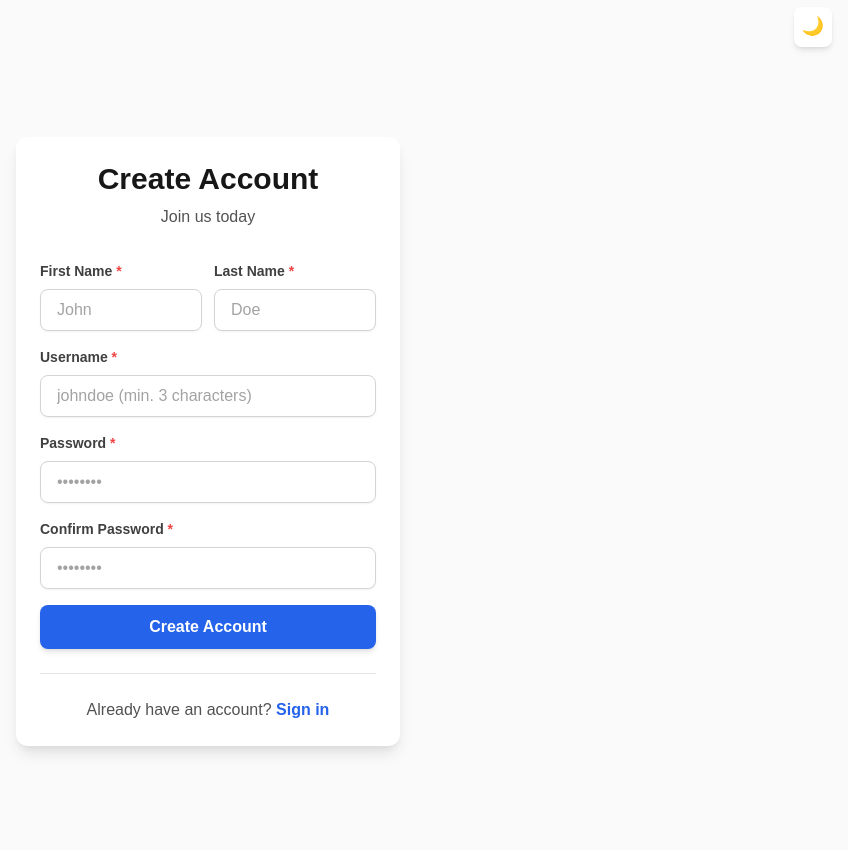
it: Register Page › should show password requirements when password field is focused
Focus the password field with placeholder "••••••••" at [208, 482], box [40,460,376,502]
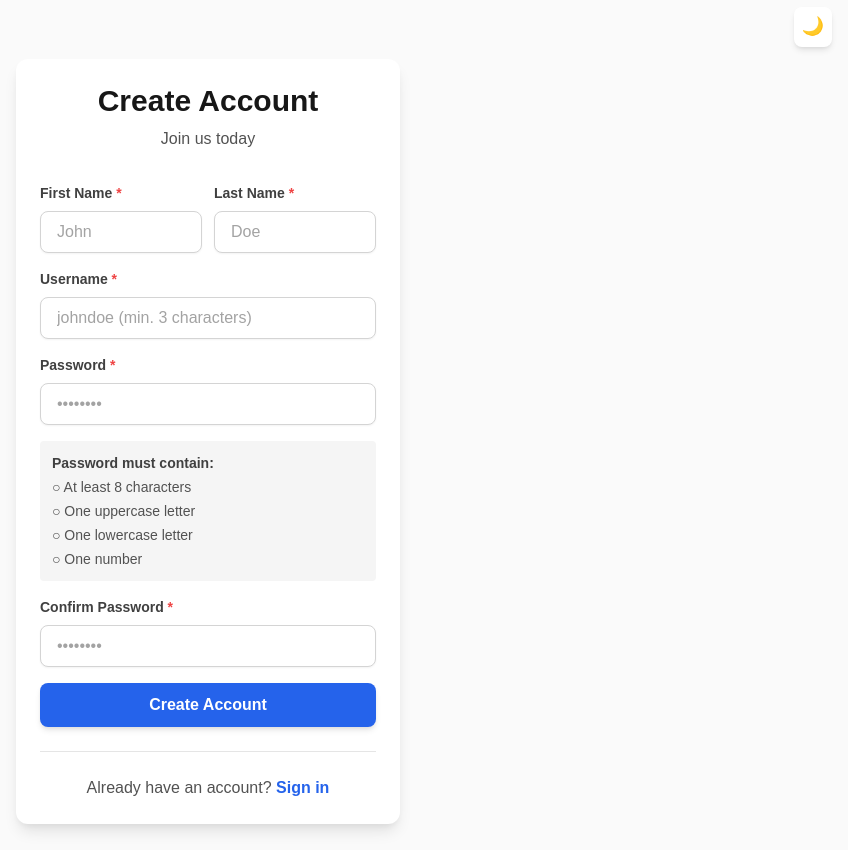
Expected: the text "Password must contain:" is shown, [52,454,214,470]
